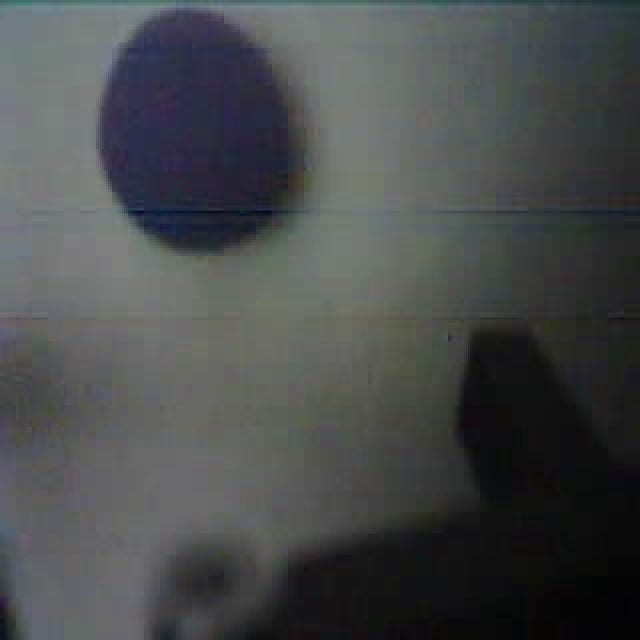blue_ball: (92, 3, 308, 256)
